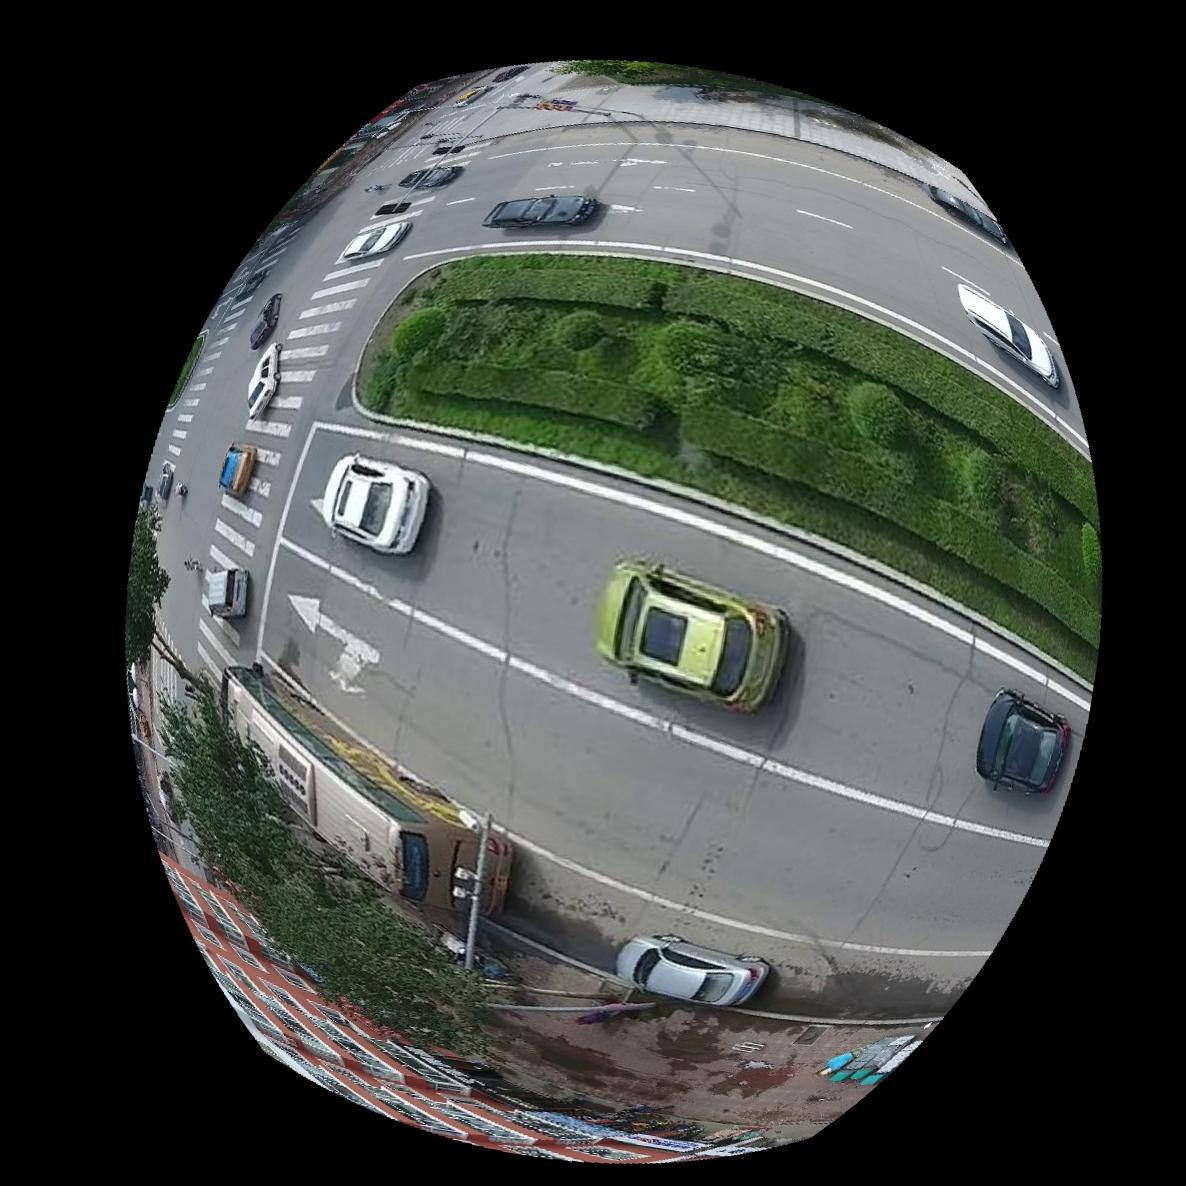building: (163, 860, 748, 1165)
cars: (223, 665, 513, 922), (596, 559, 788, 714), (318, 453, 430, 555), (617, 935, 770, 1009), (960, 285, 1061, 388), (977, 690, 1072, 795), (924, 181, 1013, 248), (482, 193, 596, 227), (206, 567, 249, 619), (218, 442, 255, 494)
trees: (361, 252, 1102, 674)
